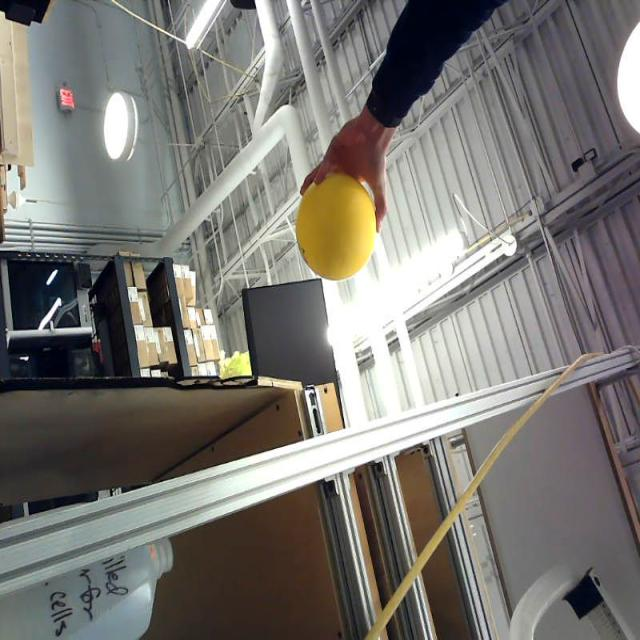Fuel: (296, 172, 376, 281)
